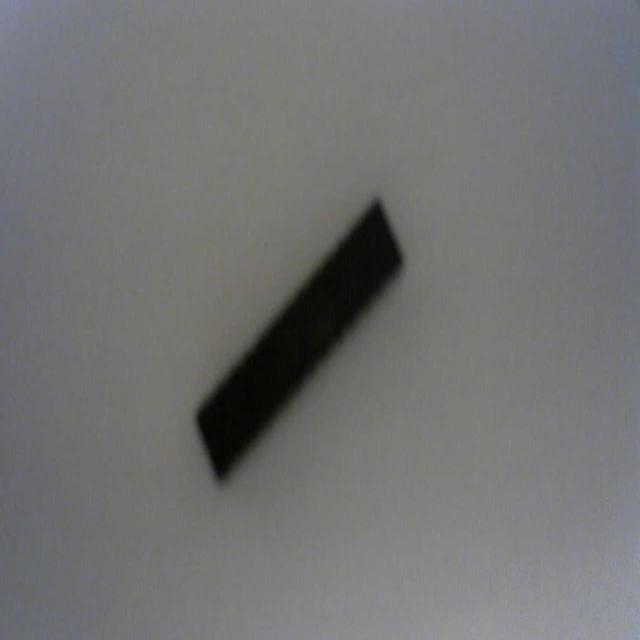atmega: (193, 191, 407, 485)
